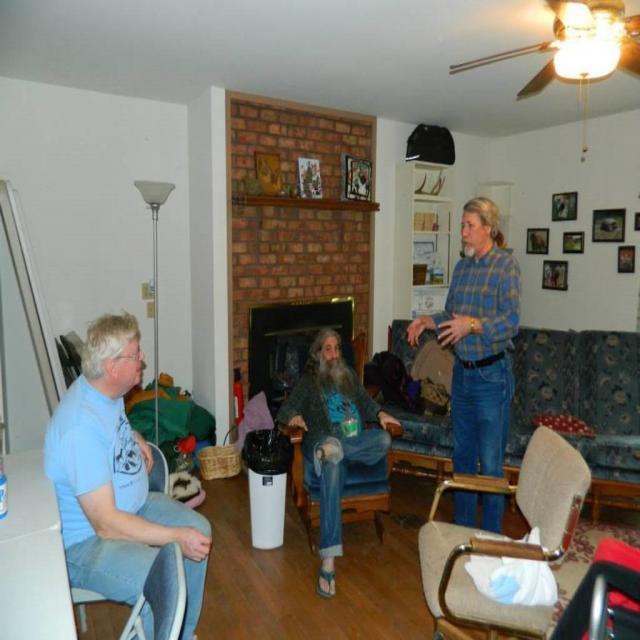Bulb: (449, 0, 639, 149)
